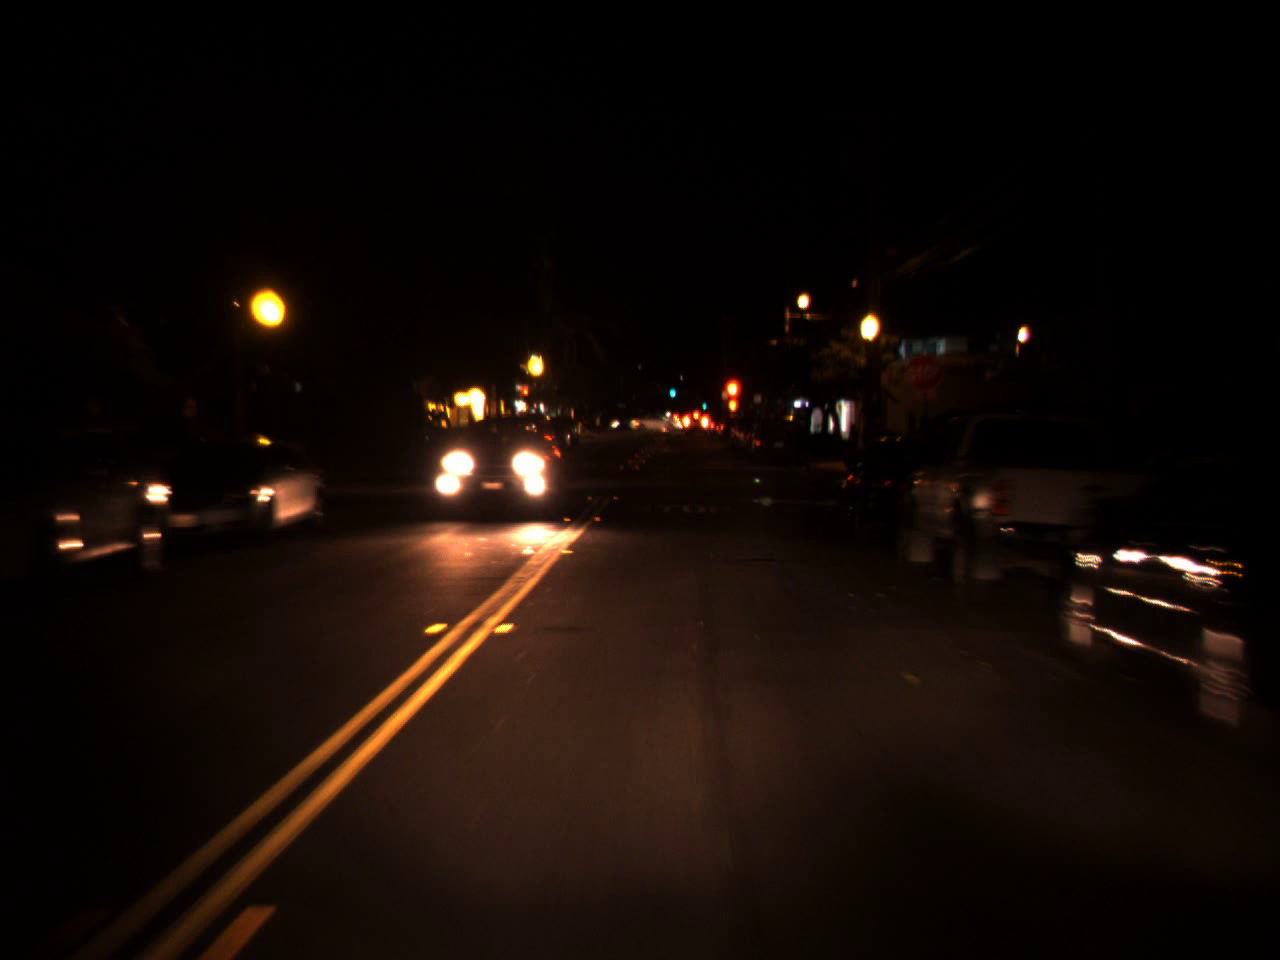go: (667, 382, 676, 397)
stop: (724, 381, 739, 408), (520, 384, 532, 405)
